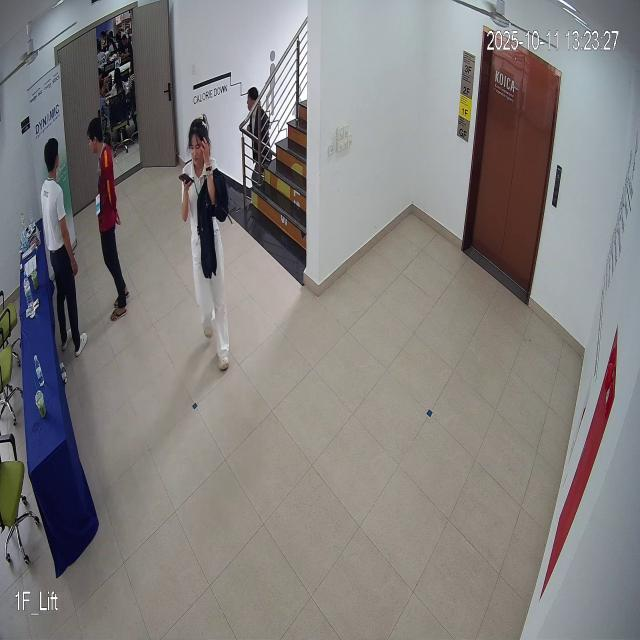face: (185, 114, 212, 172)
